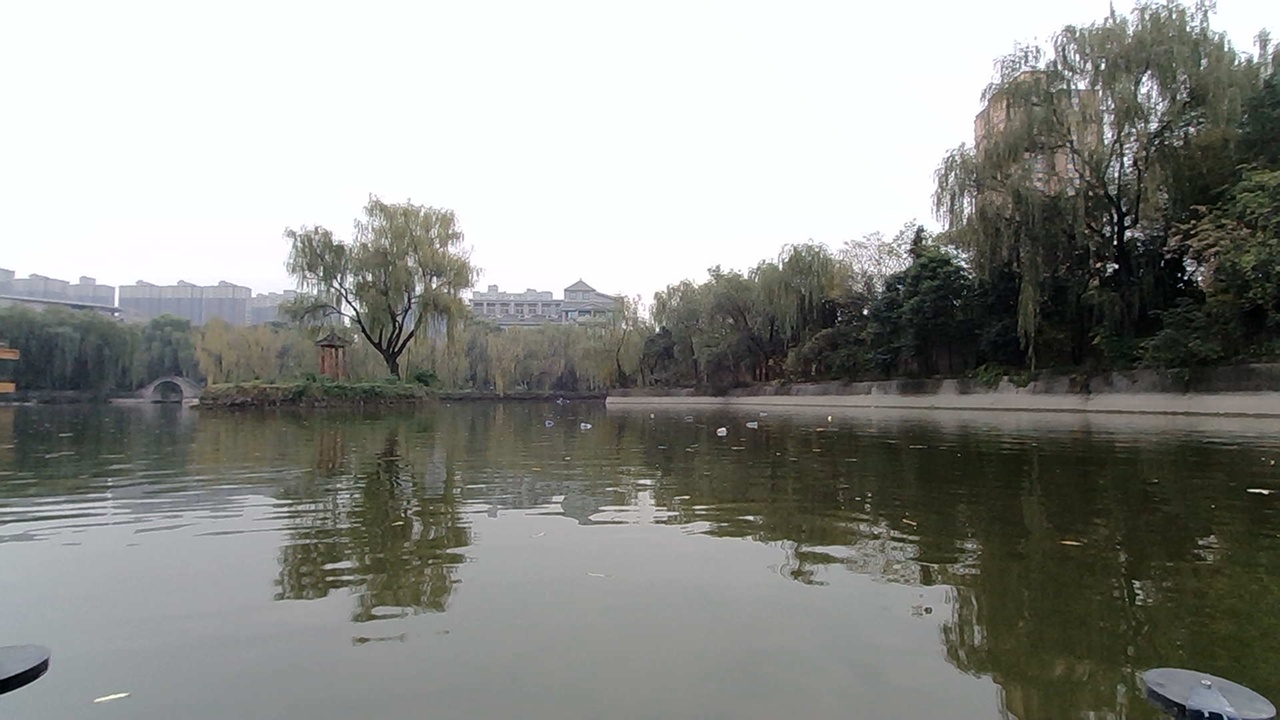bottle: (820, 408, 849, 435), (644, 403, 675, 424), (550, 405, 572, 427), (578, 413, 600, 435), (684, 405, 706, 424), (711, 423, 733, 440), (742, 413, 764, 429)
